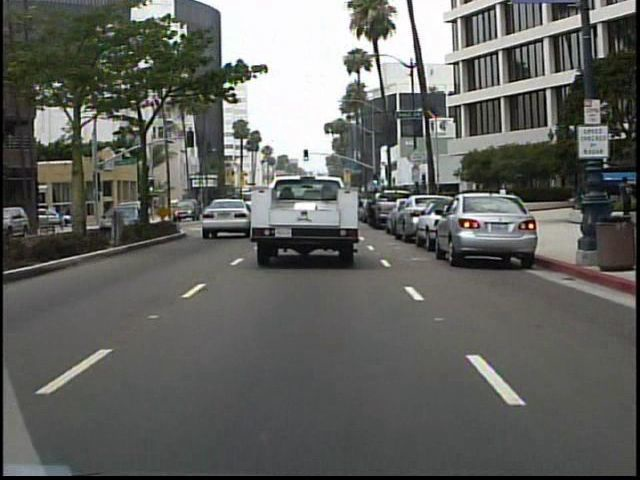person: (616, 173, 634, 217)
